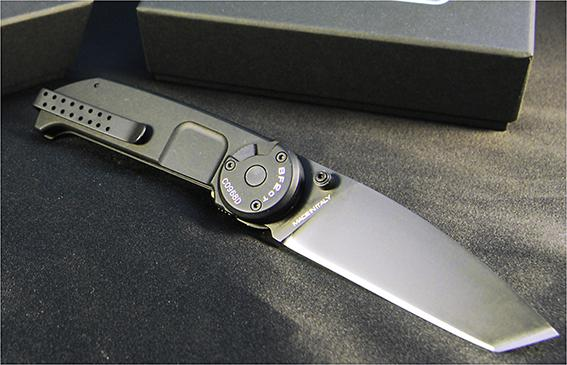knife: (260, 157, 567, 365)
